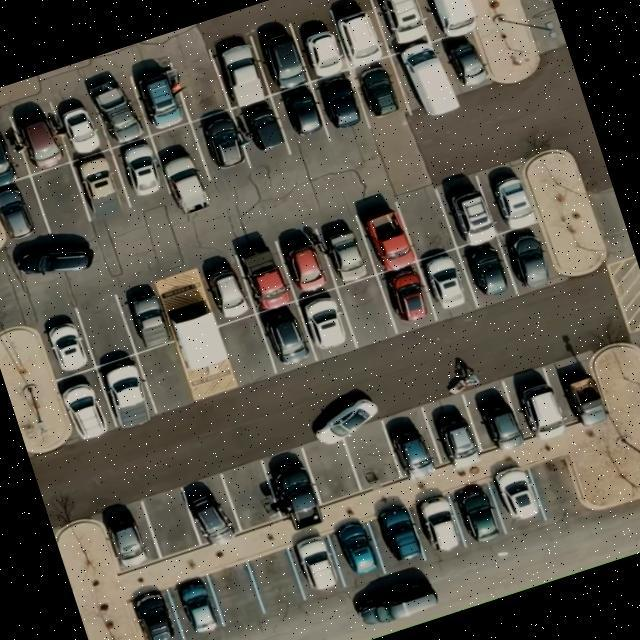space-empty: (73, 286, 137, 367), (168, 45, 232, 123), (394, 182, 457, 260), (220, 460, 284, 536), (340, 420, 404, 495), (32, 162, 92, 240), (336, 273, 398, 347), (138, 487, 200, 561), (300, 434, 362, 508), (216, 314, 276, 388), (246, 545, 306, 619), (137, 340, 196, 412), (209, 562, 265, 628), (532, 456, 588, 522)
space-occupied: (394, 36, 463, 122), (232, 234, 304, 316), (208, 29, 274, 111), (506, 364, 572, 445), (151, 122, 214, 206), (462, 378, 527, 458), (260, 447, 324, 528), (353, 195, 418, 274), (88, 69, 153, 148), (196, 250, 260, 328), (313, 209, 376, 287), (435, 170, 498, 248), (421, 392, 484, 470), (349, 54, 413, 130), (366, 497, 429, 574), (37, 302, 98, 381), (94, 354, 158, 429), (295, 286, 359, 361), (130, 60, 194, 135), (272, 220, 332, 300), (50, 88, 114, 163), (408, 486, 471, 562), (72, 150, 134, 226), (98, 498, 160, 574), (380, 406, 441, 483), (487, 460, 549, 534), (56, 368, 118, 442), (476, 160, 538, 234), (179, 474, 241, 548), (377, 260, 439, 334), (12, 100, 72, 176), (256, 301, 318, 374), (286, 528, 348, 601), (415, 247, 476, 321), (497, 224, 558, 298), (113, 136, 172, 211), (327, 0, 391, 69), (312, 68, 370, 144), (328, 516, 388, 588), (252, 22, 310, 96), (438, 28, 498, 99), (448, 478, 507, 550), (117, 282, 177, 352), (458, 238, 517, 309), (271, 82, 329, 154), (190, 109, 252, 176), (547, 353, 603, 427), (291, 11, 349, 82), (166, 573, 226, 640), (232, 96, 288, 163), (370, 0, 438, 54), (0, 177, 46, 244), (129, 587, 186, 640), (412, 0, 475, 44), (0, 115, 29, 190)
